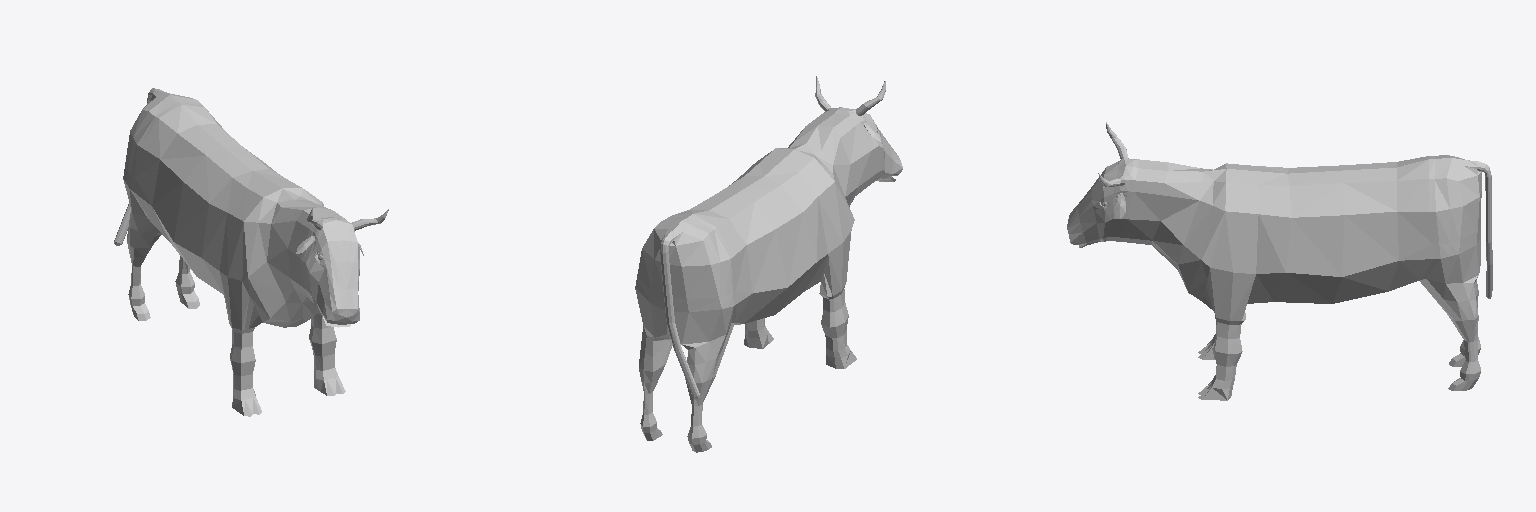
File: 002_BullNew04.obj
The picture shows the model from 3 angles: view 1: azimuth 30°, elevation 25°; view 2: azimuth 150°, elevation 25°; view 3: azimuth 270°, elevation 25°; orthographic projection.
Visible parts, largest first — view 1: Boi.001; view 2: Boi.001; view 3: Boi.001.
Boxes of the visible parts, box(x1,y1,x2,y2) form: Boi.001: box(114, 88, 388, 416); Boi.001: box(635, 76, 902, 452); Boi.001: box(1067, 122, 1492, 400).
Bounding box in the file's own units: 11.97 × 26.55 × 42.53.